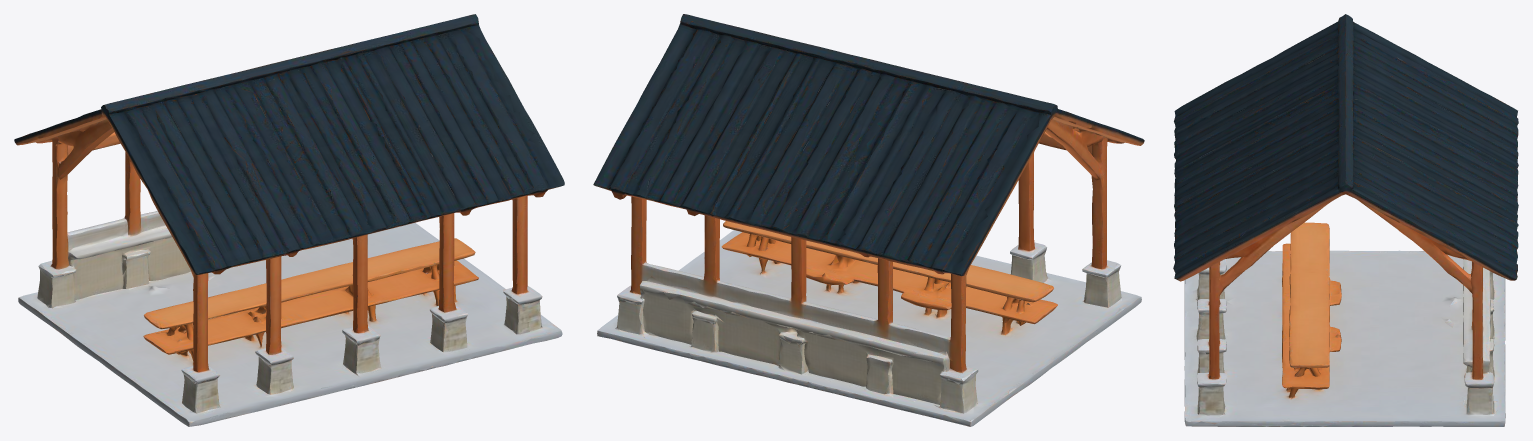
File: pondside-pavilion.glb
3 renders of one model, left to right at view 1: azimuth 30°, elevation 25°; view 2: azimuth 150°, elevation 25°; view 3: azimuth 270°, elevation 25°, orthographic. The views are drawn at different scales.
Visible parts, largest first — view 1: Mesh; view 2: Mesh; view 3: Mesh.
Part boxes in pixels (x1,y1,x2,y2): Mesh: (14,14,564,426); Mesh: (593,14,1144,426); Mesh: (1173,14,1518,426).
Bounding box in the file's own units: 1.89 × 1.26 × 1.62.
1 material, 1 textured.
